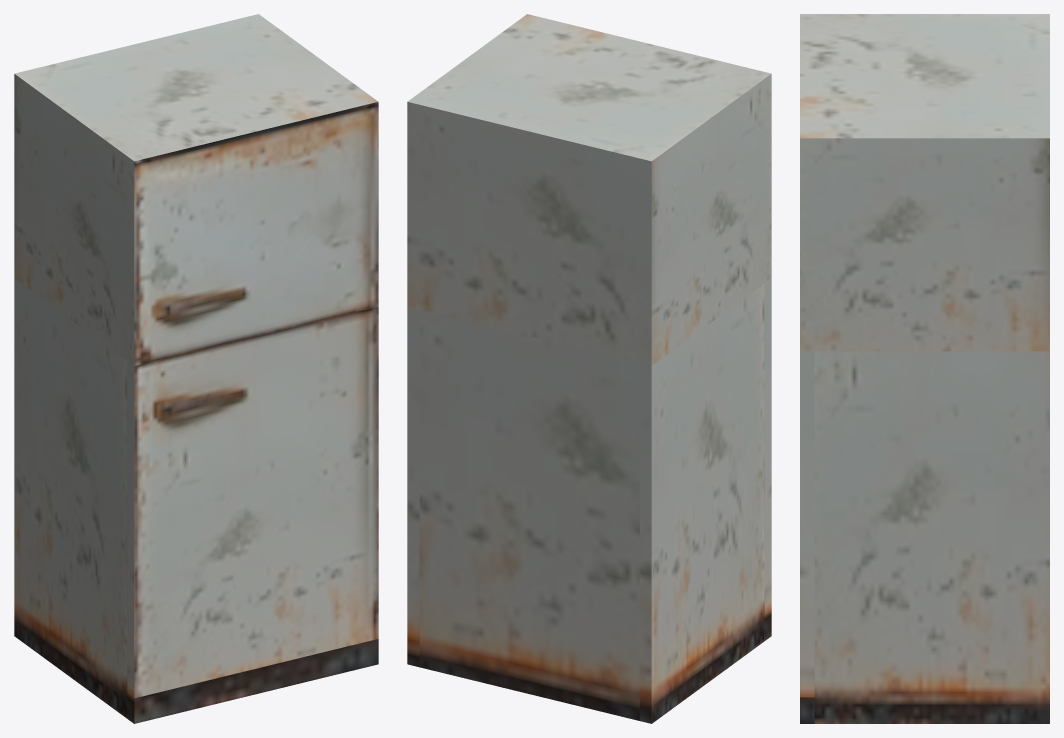
The model's file is fridge.glb.
The picture shows the model from 3 angles, left to right: view 1: azimuth 30°, elevation 25°; view 2: azimuth 150°, elevation 25°; view 3: azimuth 270°, elevation 25°; orthographic projection. The views are drawn at different scales.
Parts seen in each view (by area): view 1: Object_4; view 2: Object_4; view 3: Object_4.
Boxes of the visible parts, x1=… form: Object_4: x1=14, y1=14, x2=378, y2=723; Object_4: x1=407, y1=14, x2=771, y2=723; Object_4: x1=800, y1=14, x2=1049, y2=723.
Size of the model in its own units: 80 by 176 by 68.
Materials: 3 (1 with a texture image).
